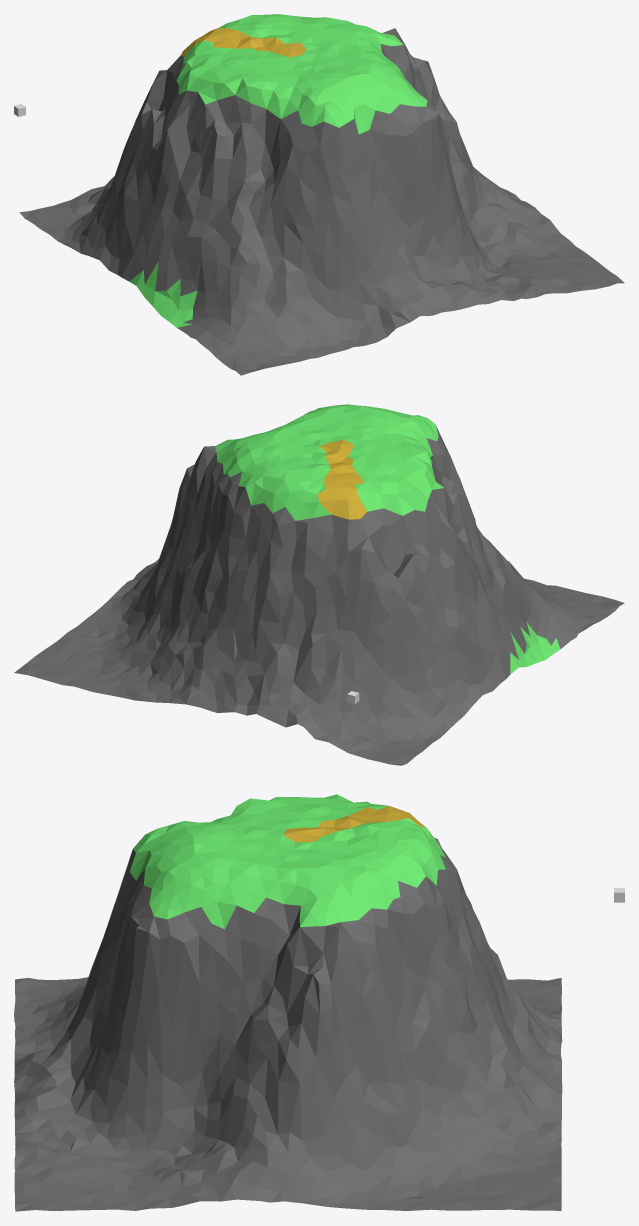
The model's file is StartIsland.fbx.
3 views of the same model, one above another, from view 1: azimuth 30°, elevation 25°; view 2: azimuth 150°, elevation 25°; view 3: azimuth 270°, elevation 25° (orthographic). The views are drawn at different scales.
Visible parts, largest first — view 1: Terrain; view 2: Terrain; view 3: Terrain.
Boxes of the visible parts, x1,y1,x2,y2 form: Terrain: (14,14,624,375); Terrain: (14,404,624,765); Terrain: (14,794,624,1211).
Size of the model in its own units: 10033 by 5066 by 11175.
